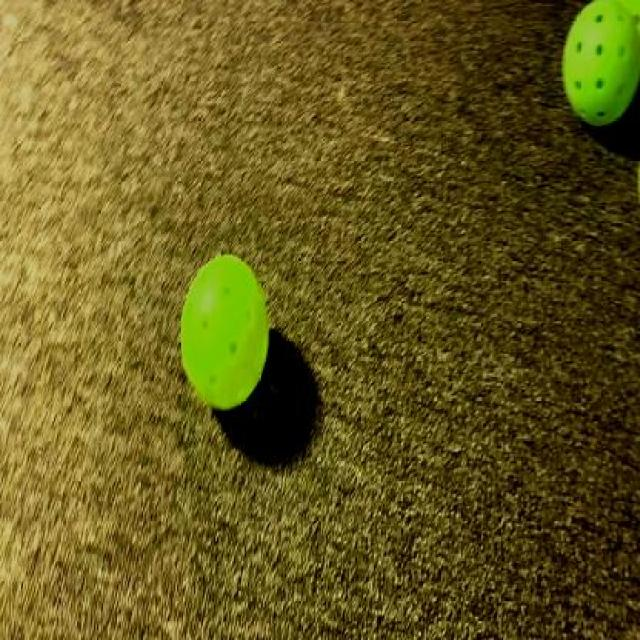ball: (170, 254, 283, 416), (562, 3, 640, 122)
